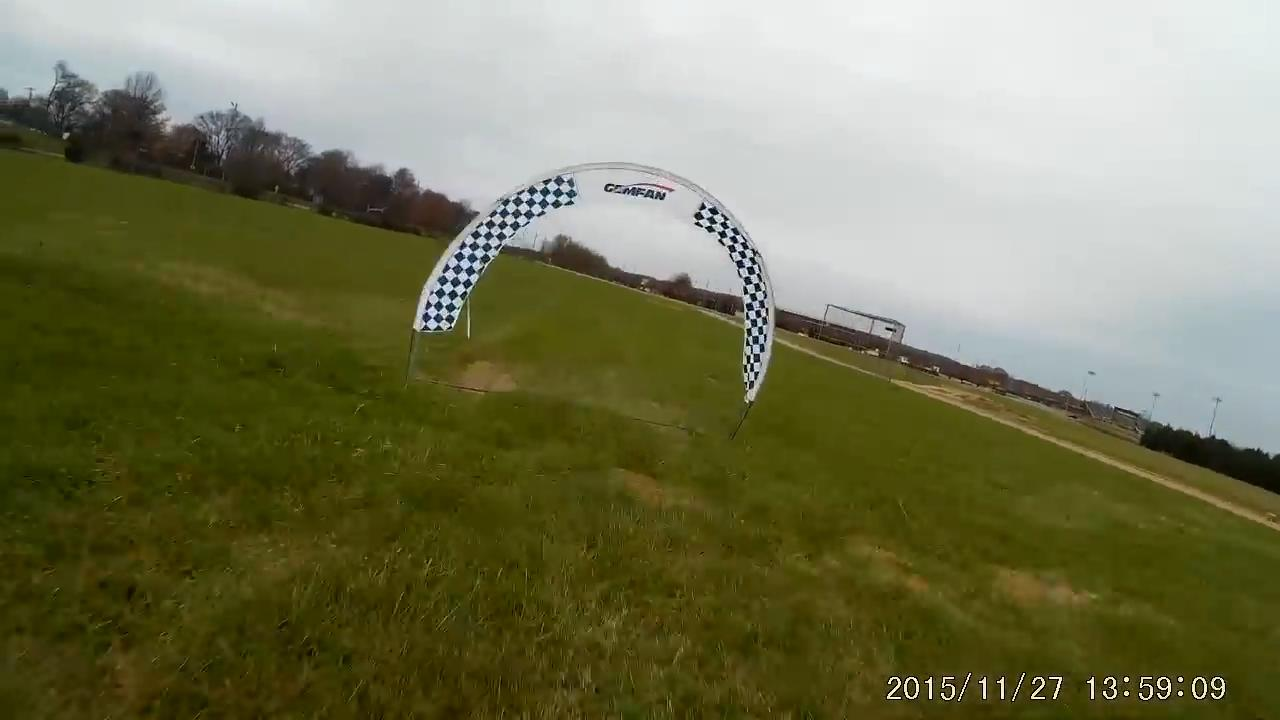gate: (410, 156, 777, 414)
